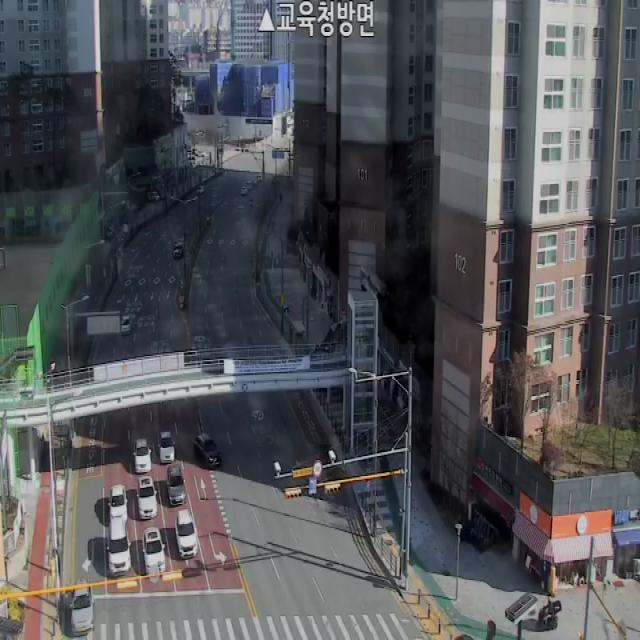Car: (107, 517, 131, 576), (70, 580, 94, 635), (142, 526, 166, 575), (175, 509, 198, 560), (136, 476, 158, 519), (194, 434, 221, 467), (167, 464, 186, 506), (108, 485, 128, 521), (133, 439, 151, 473), (158, 432, 176, 463), (120, 315, 132, 334), (173, 242, 183, 259), (197, 186, 205, 193), (241, 187, 248, 195)
Motorcycle: (535, 595, 564, 638)
